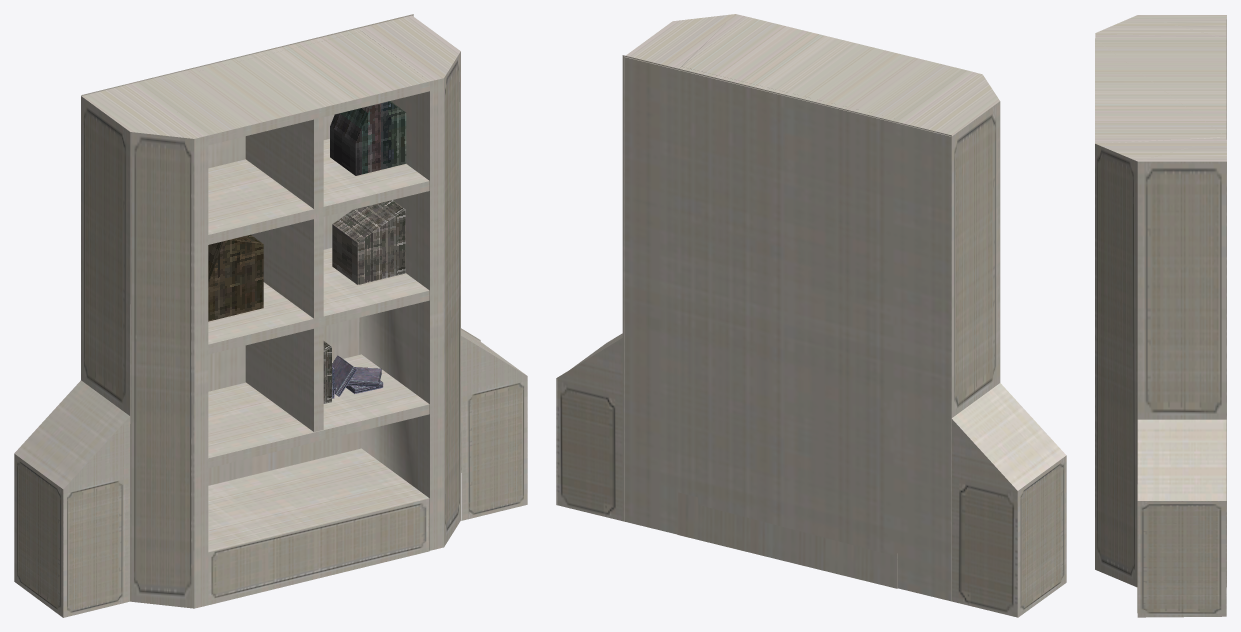
File: frn_all_eleg_bookcase_s01_l1.fbx
The picture shows the model from 3 angles, left to right: view 1: azimuth 30°, elevation 25°; view 2: azimuth 150°, elevation 25°; view 3: azimuth 270°, elevation 25°; orthographic projection. The views are drawn at different scales.
Visible parts, largest first — view 1: mesh_node; view 2: mesh_node; view 3: mesh_node.
Part boxes in pixels (x1=…): mesh_node: x1=14, y1=14, x2=527, y2=617; mesh_node: x1=556, y1=14, x2=1066, y2=617; mesh_node: x1=1095, y1=15, x2=1226, y2=617.
Size of the model in its own units: 1.87 by 1.8 by 0.5034.
